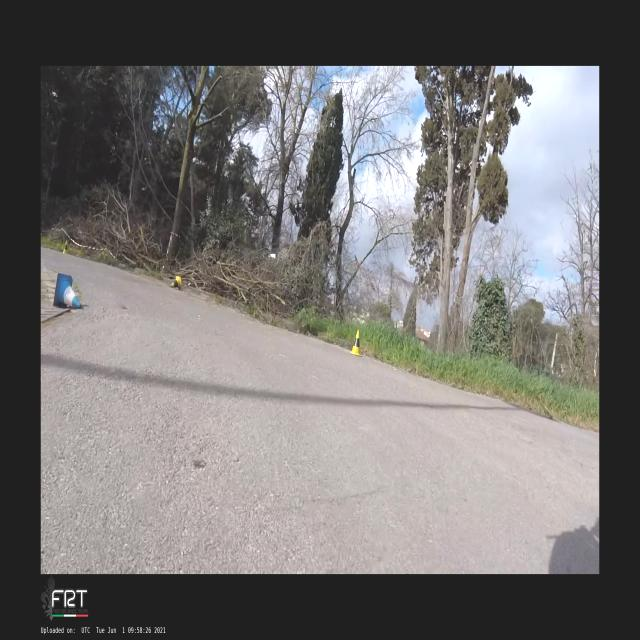blue_cone: (53, 274, 81, 308)
yellow_cone: (350, 329, 362, 356), (170, 276, 182, 290), (62, 240, 68, 254)
